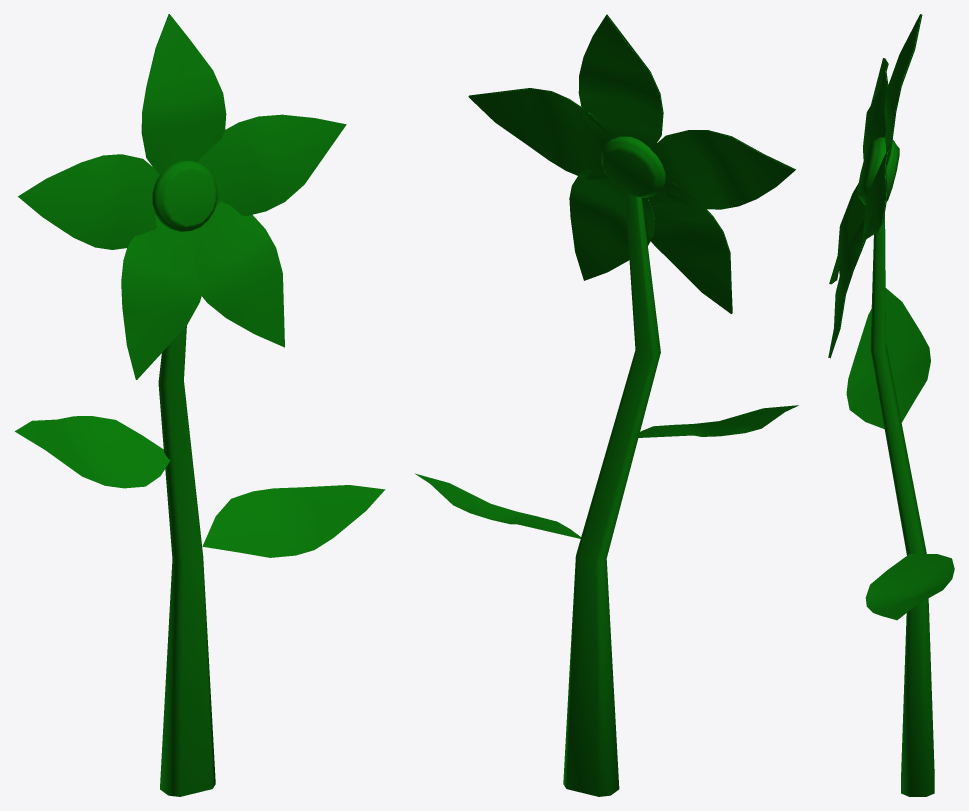
File: flower_2q.fbx
3 renders of one model, left to right at view 1: azimuth 30°, elevation 25°; view 2: azimuth 150°, elevation 25°; view 3: azimuth 270°, elevation 25°, orthographic.
Visible parts, largest first — view 1: flower; view 2: flower; view 3: flower.
Part boxes in pixels (bbox=[...]): flower: bbox=[15, 14, 385, 796]; flower: bbox=[415, 14, 798, 796]; flower: bbox=[828, 14, 954, 796].
Bounding box in the file's own units: 3.6 × 7.07 × 1.06.
